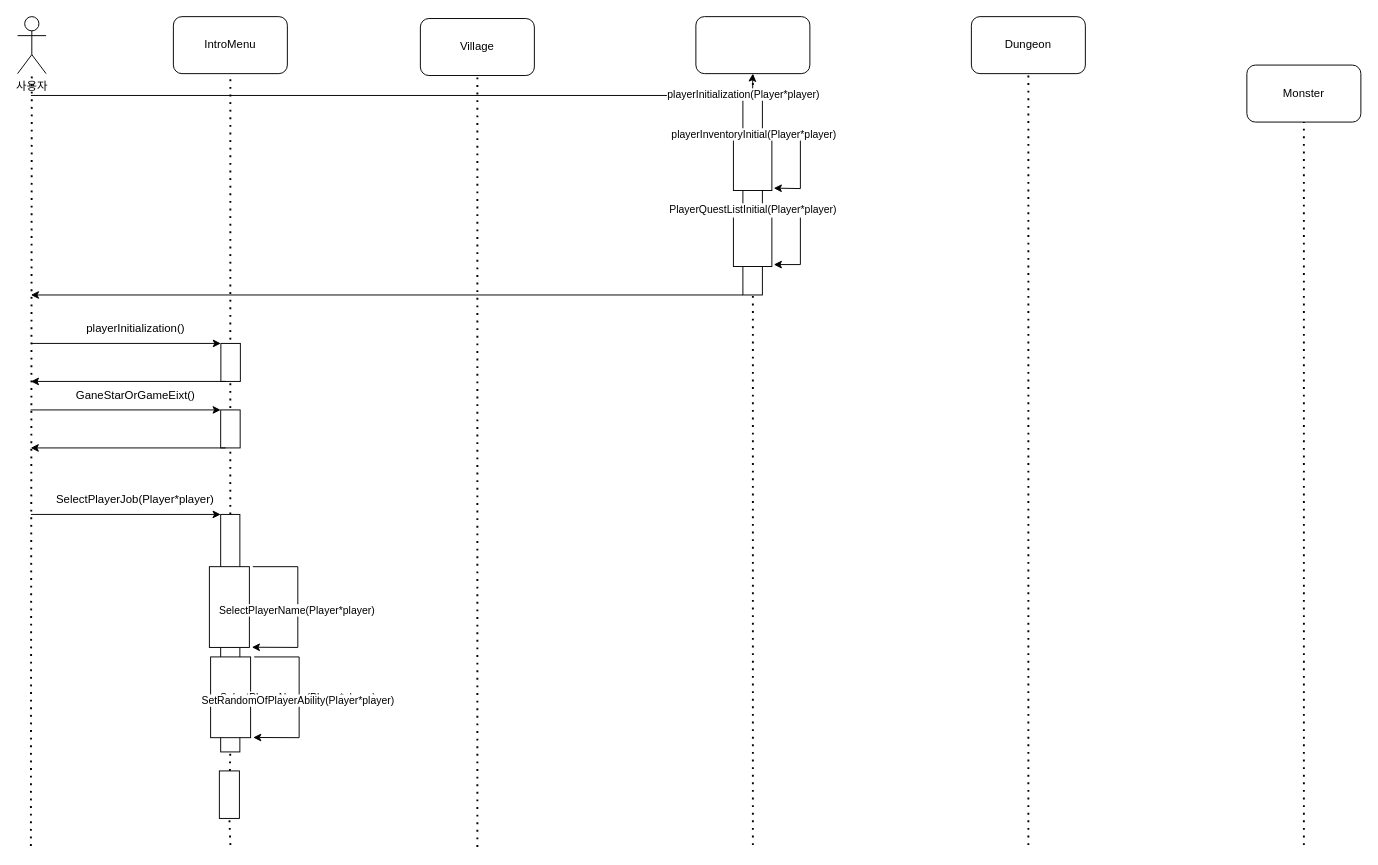
Image size: 1378x865. Some labels were removed from this diagram. The shapes that lost their labels are listed below. From the top down, each one's centre as x and y in pixels, then its label:
At (752,45): "Player".
At (228,794): "StartAdventure()".
